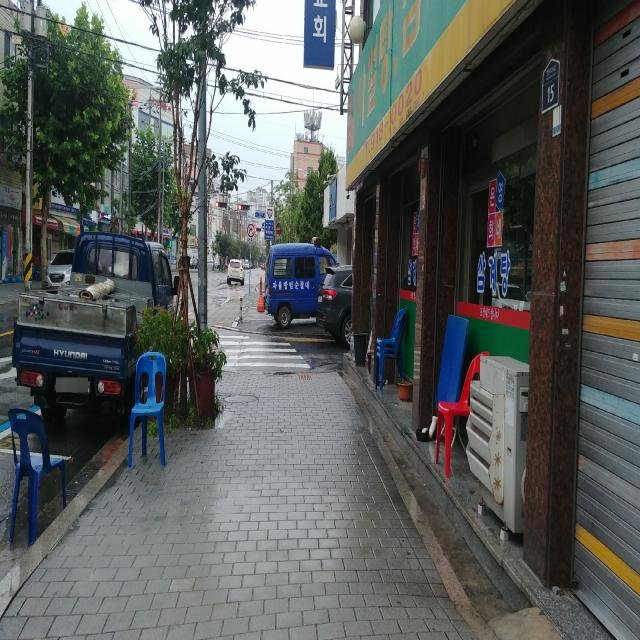횡단보도: (210, 334, 312, 368)
